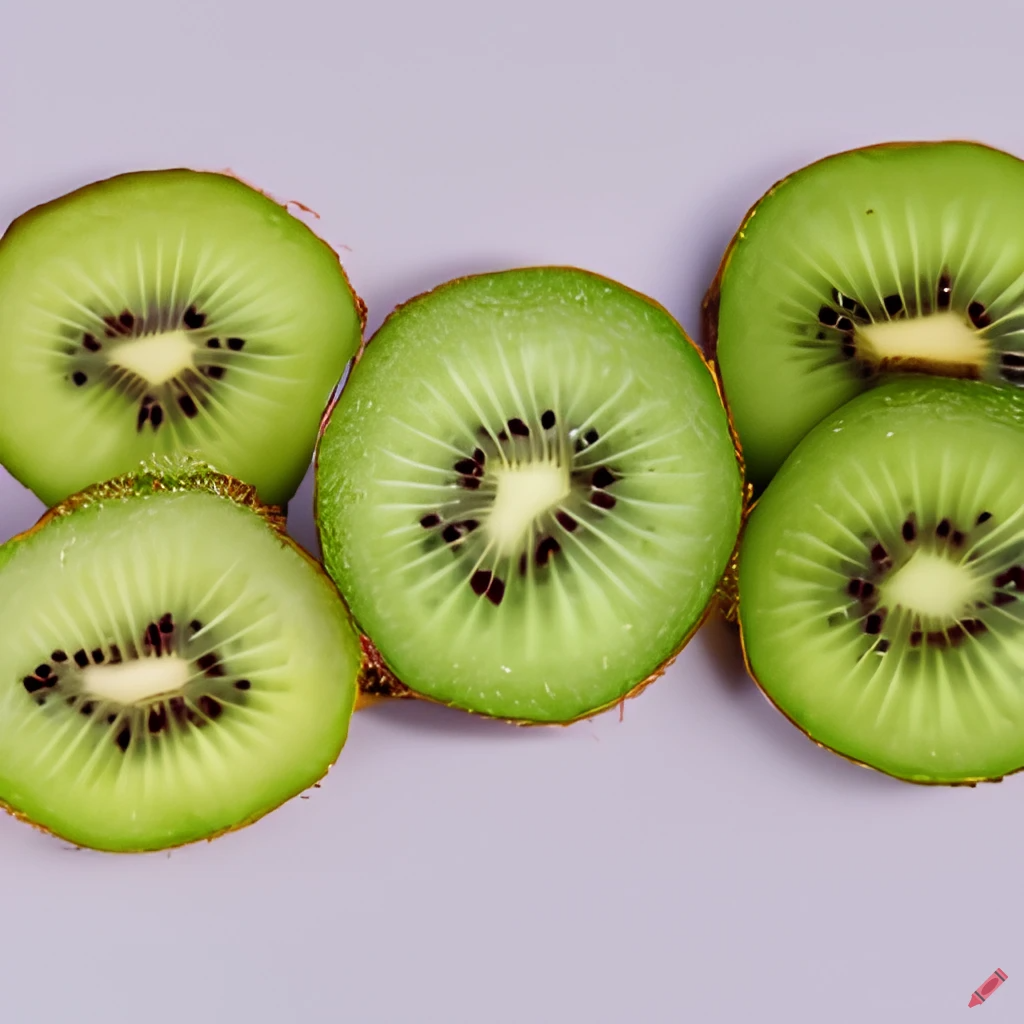Kiwi: (313, 256, 730, 738), (731, 357, 1024, 800)
